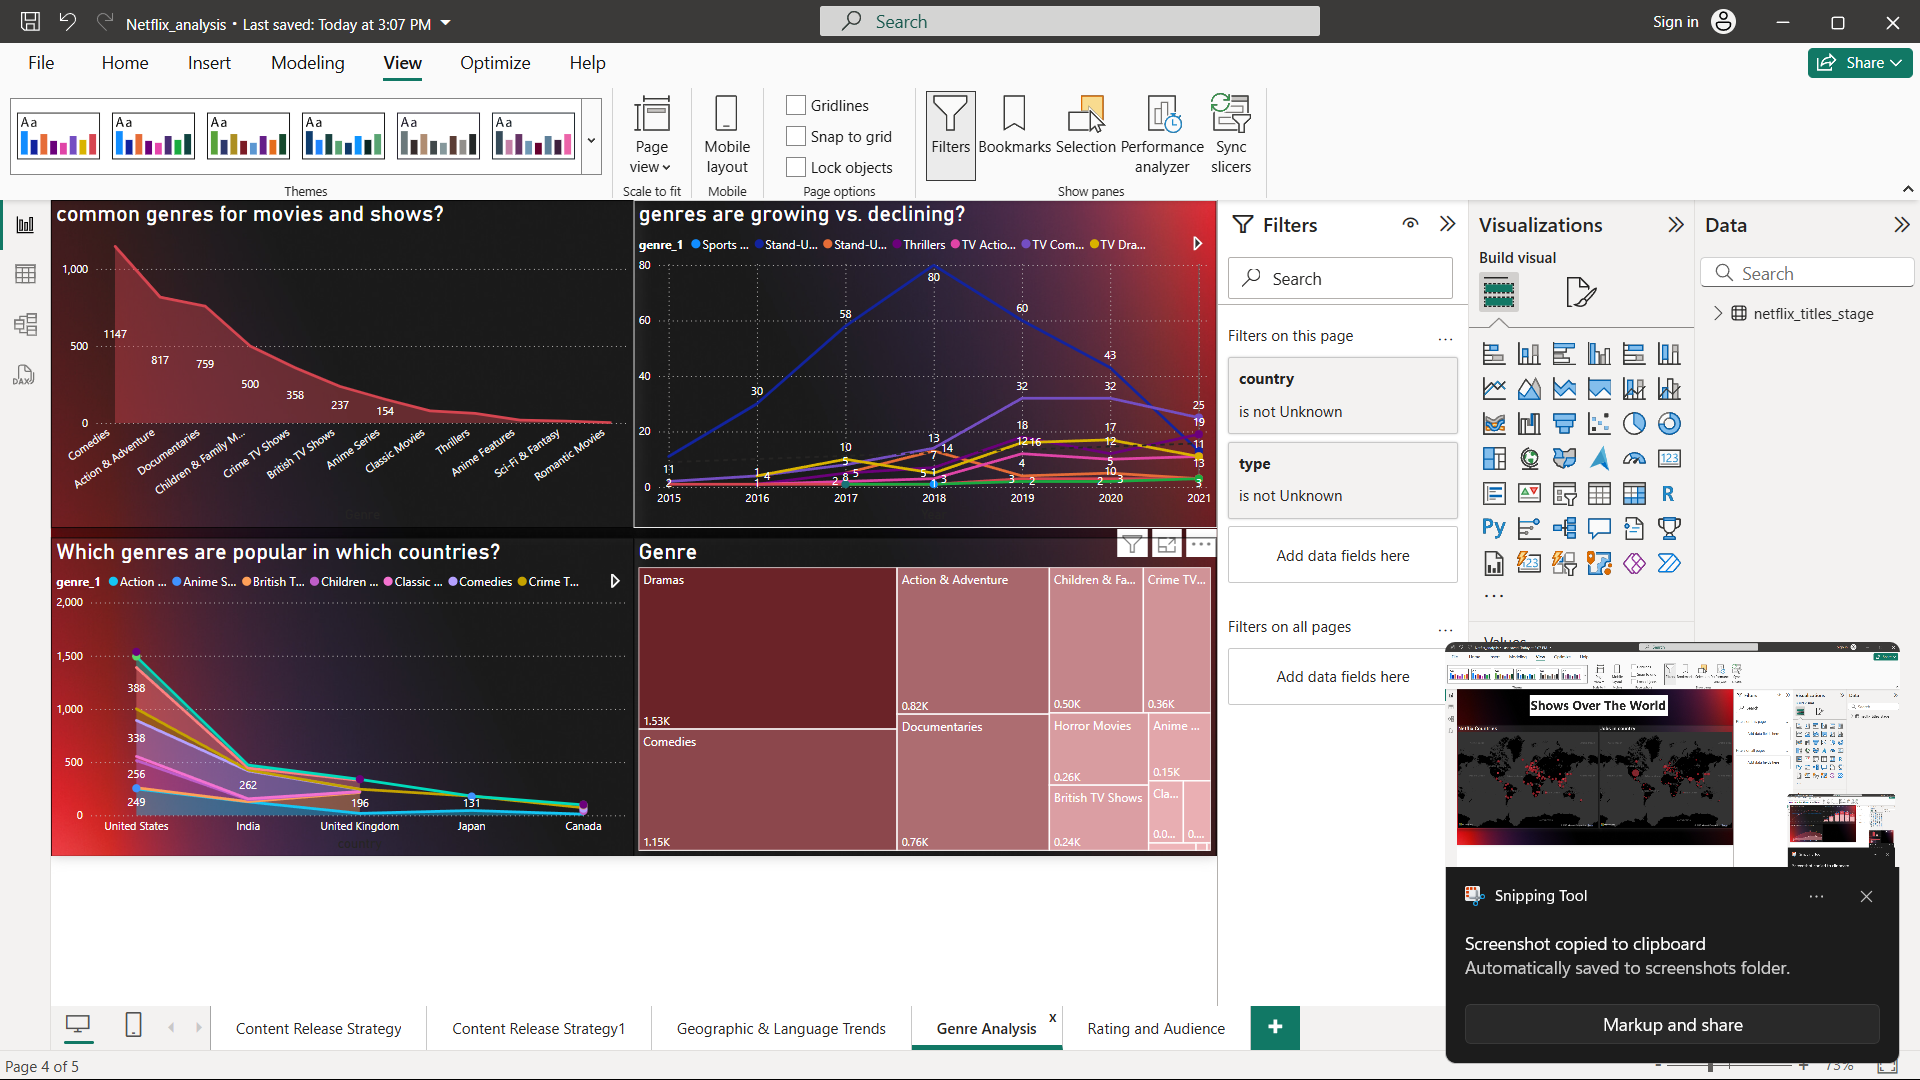

This screenshot's page, from the dashboard's own definition file:
{"tool":"powerbi","page":{"name":"Genre Analysis","canvas":[1280,720],"ordinal":3},"visuals":[{"type":"stackedAreaChart","title":"common genres for movies and shows?","fields":{"Category":["netflix_titles_stage.genre_1"],"Y":["CountNonNull(netflix_titles_stage.type)"]},"box":[0,0,640,360],"z":0},{"type":"lineChart","title":"genres are growing vs. declining?","fields":{"Series":["netflix_titles_stage.genre_1"],"Category":["netflix_titles_stage.date_added.Variation.Date Hierarchy.Year"],"Y":["CountNonNull(netflix_titles_stage.genre_1)"]},"box":[640,0,640,360],"z":1000},{"type":"stackedAreaChart","title":"Which genres are popular in which countries?","fields":{"Category":["netflix_titles_stage.country"],"Y":["CountNonNull(netflix_titles_stage.genre_1)"],"Series":["netflix_titles_stage.genre_1"]},"box":[0,370,640,350],"z":2000},{"type":"treemap","title":"Genre","fields":{"Group":["netflix_titles_stage.genre_1"],"Values":["CountNonNull(netflix_titles_stage.genre_1)"]},"box":[640,370,640,350],"z":3000}]}

Visuals, with their boxes on the page's 1280x720 design canvas (x1, y1, x2, y2). These are canvas units, not pixel positions in the 1920x1080 screenshot, which may show the page scaled, cropped or inside an application window:
"common genres for movies and shows?" stackedAreaChart: (x1=0, y1=0, x2=640, y2=360)
"genres are growing vs. declining?" lineChart: (x1=640, y1=0, x2=1280, y2=360)
"Which genres are popular in which countries?" stackedAreaChart: (x1=0, y1=370, x2=640, y2=720)
"Genre" treemap: (x1=640, y1=370, x2=1280, y2=720)
